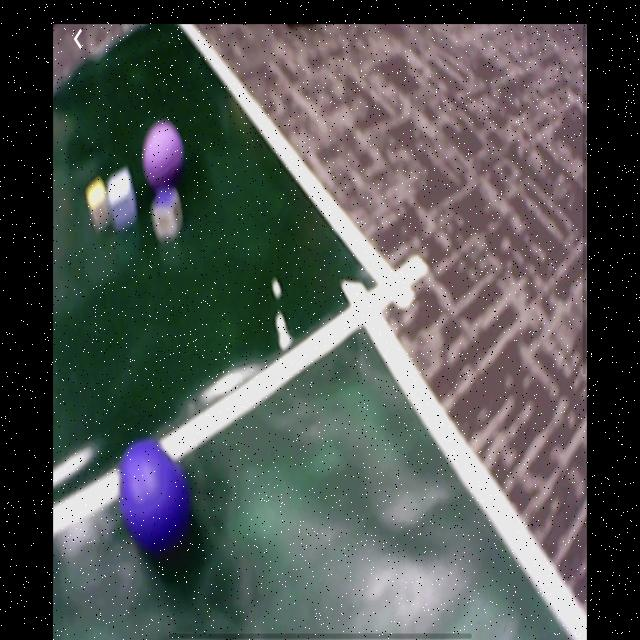ball: (123, 442, 186, 547), (143, 121, 185, 186)
